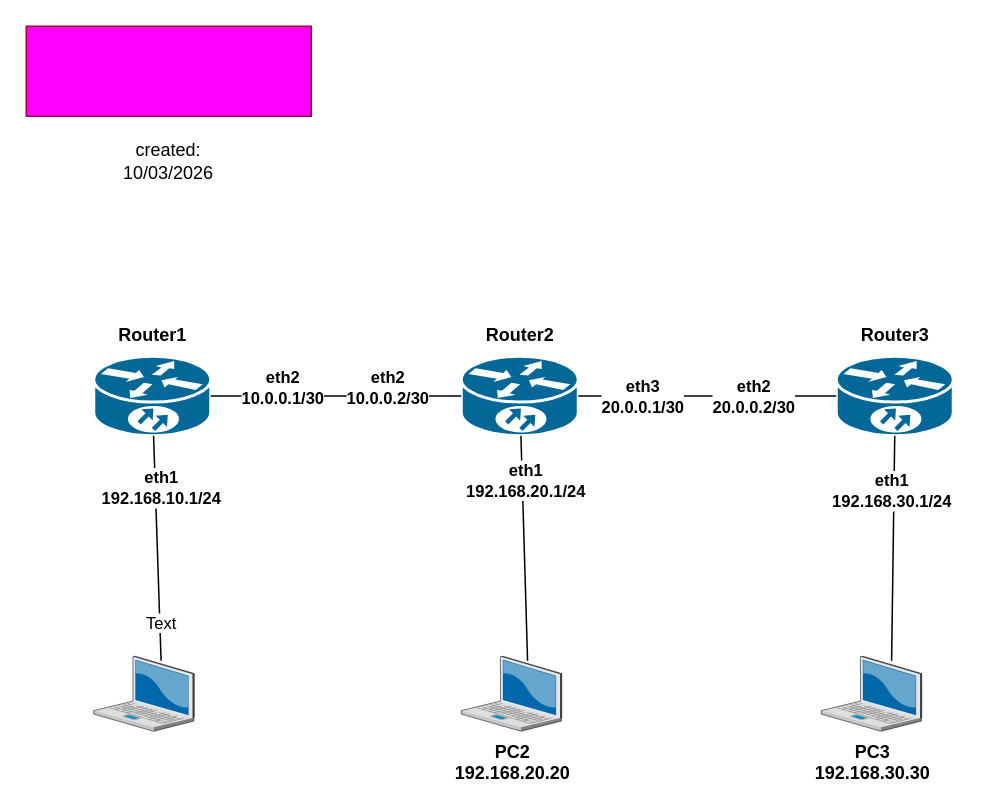
The diagram is 981 pixels wide and 812 high, and some of its shapes have lost their labels. The centre of each missing label's shape, as x and y in pixels:
PC1 192.168.10.10: the point at 143,693
static-routing-multi-router: the point at 168,70
